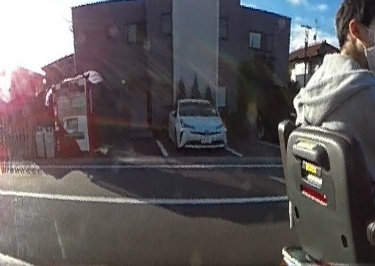person: (309, 0, 375, 251)
